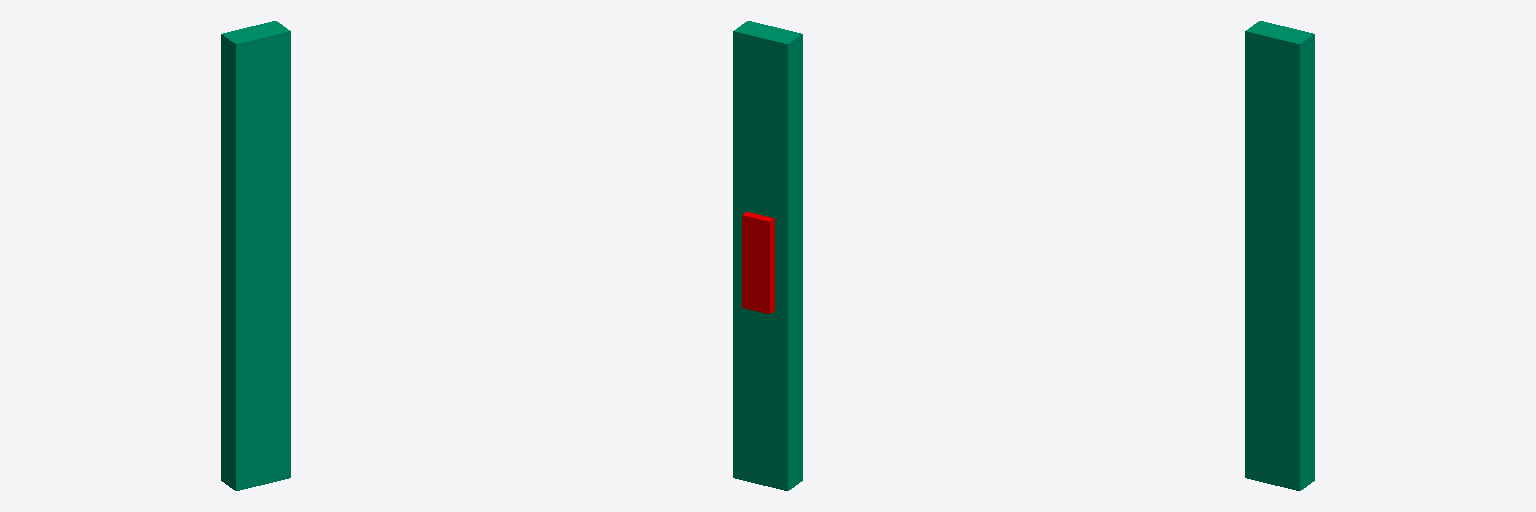
URDF robot description (knife):
<?xml version='1.0' encoding='utf-8'?>
<robot name="knife">
  <link name="base" /><joint name="joint_0" type="fixed"><origin xyz="0 0 0" rpy="0 0 0" /><parent link="base" /><child link="link_0" /></joint><link name="link_1">
    <visual name="link_1">
      <origin xyz="0 0.005737 0" rpy="0 0 0" />
      <geometry>
        <box size="0.009616894956566233 0.002815471312854631 0.03031646607811074" /></geometry>
    <material name="red"><color rgba="1 0 0 1" /></material></visual>
    <collision>
      <origin xyz="0 0.005737 0" rpy="0 0 0" />
      <geometry>
        <box size="0.009616894956566233 0.002815471312854631 0.03031646607811074" /></geometry>
    </collision>
    </link>
  <joint name="joint_1" type="prismatic">
    <origin xyz="0 0 0" />
    <axis xyz="0 0 1" />
    <child link="link_1" />
    <parent link="link_0" />
    <limit lower="-0.028881" upper="0.021119" effort="100.0" velocity="1.0" />
  </joint>
  <link name="link_0">
    <visual name="link_0">
      <origin xyz="0 0 0" />
      <geometry>
        <box size="0.018744157087333554 0.008657828325763148 0.14621164825477506" /></geometry>
    </visual>
    <collision>
      <origin xyz="0 0 0" />
      <geometry>
        <box size="0.018744157087333554 0.008657828325763148 0.14621164825477506" /></geometry>
    </collision>
    </link>
</robot>

--- Facts derived from the render (not from the file) ---
The picture shows the robot from 3 angles, left to right: view 1: azimuth 30°, elevation 25°; view 2: azimuth 150°, elevation 25°; view 3: azimuth 330°, elevation 25°; orthographic projection.
Robot: knife — 3 links, 2 joints (1 prismatic, 1 fixed); root link base; default pose: all joints at 0.
Visible links, largest first — view 1: link_0; view 2: link_0, link_1; view 3: link_0.
Boxes of the visible links, box(x1,y1,x2,y2) form: link_0: box(221, 21, 290, 490); link_0: box(733, 21, 802, 490); link_1: box(742, 212, 774, 313); link_0: box(1245, 21, 1314, 490).
Size in the robot's own frame: 0.0187 by 0.0115 by 0.1462 metres.
Geometry: primitives only (box / cylinder / sphere), no mesh files.
